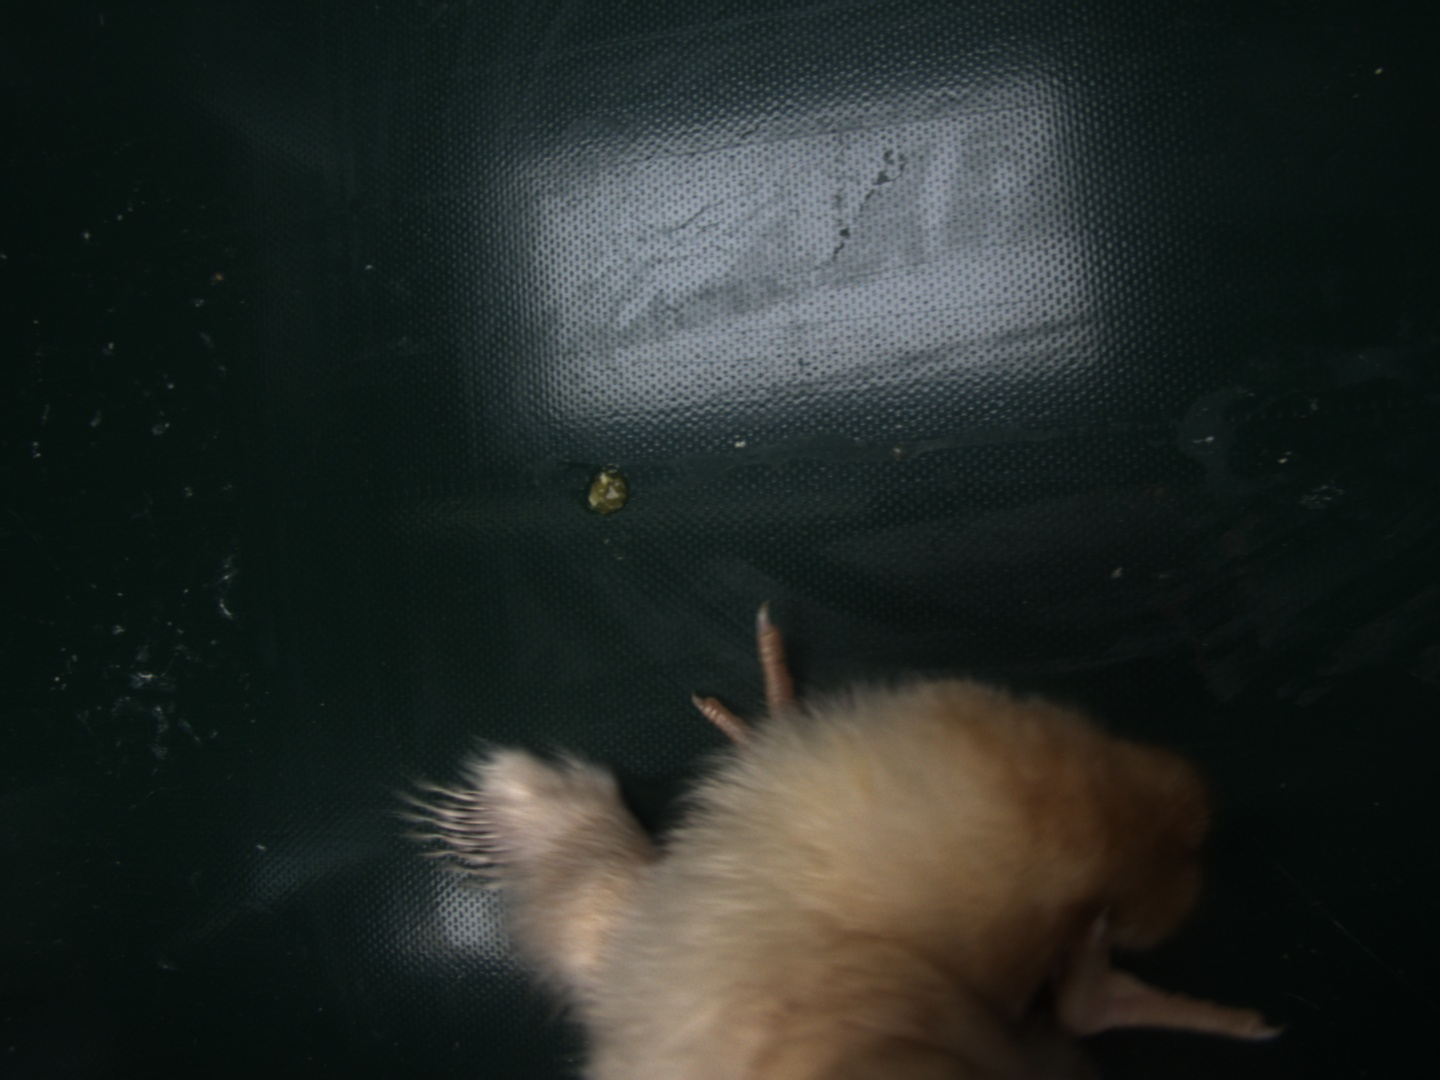female: (393, 782, 520, 894)
